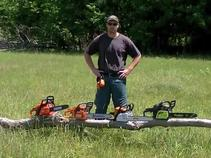down: (140, 97, 178, 118)
